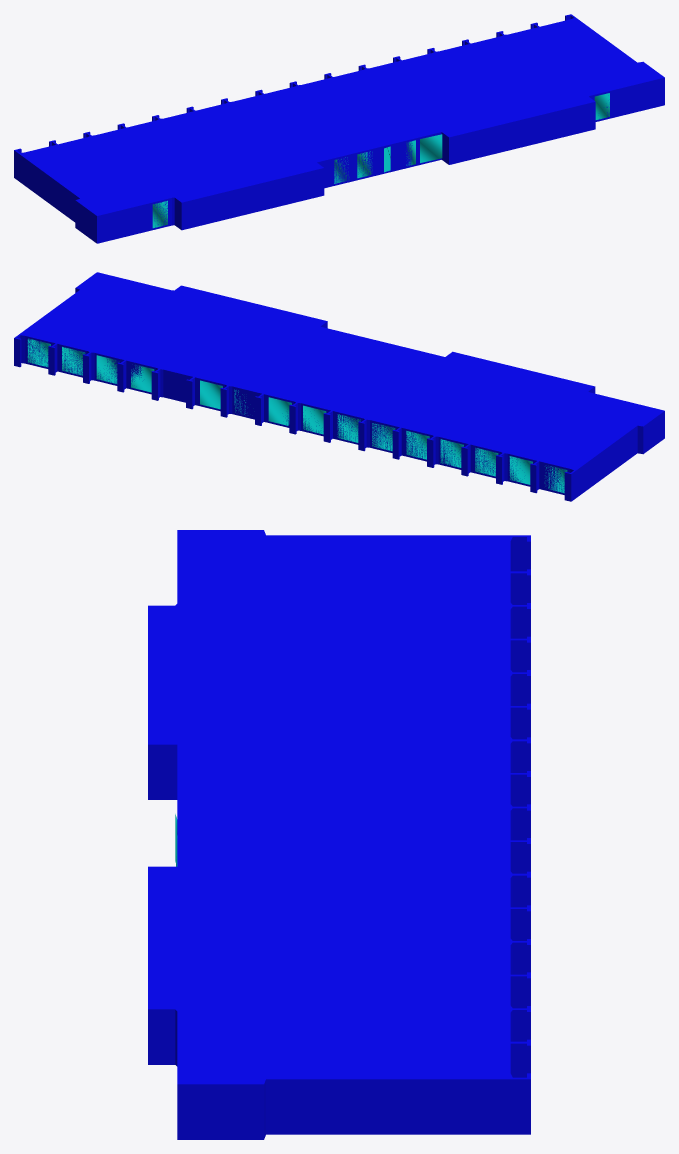
The picture shows the model from 3 angles, top to bottom: view 1: azimuth 30°, elevation 25°; view 2: azimuth 150°, elevation 25°; view 3: azimuth 270°, elevation 25°; orthographic projection. The views are drawn at different scales.
Visible parts, largest first — view 1: group_out_solid_mesh, group_out_windows_mesh; view 2: group_out_solid_mesh, group_out_windows_mesh; view 3: group_out_solid_mesh.
Boxes of the visible parts, x1,y1,x2,y2 form: group_out_solid_mesh: (14, 14, 664, 243); group_out_windows_mesh: (152, 93, 609, 228); group_out_solid_mesh: (14, 272, 664, 501); group_out_windows_mesh: (27, 338, 567, 493); group_out_solid_mesh: (148, 530, 530, 1139).
Size of the model in its own units: 64349 by 3000 by 18799.
